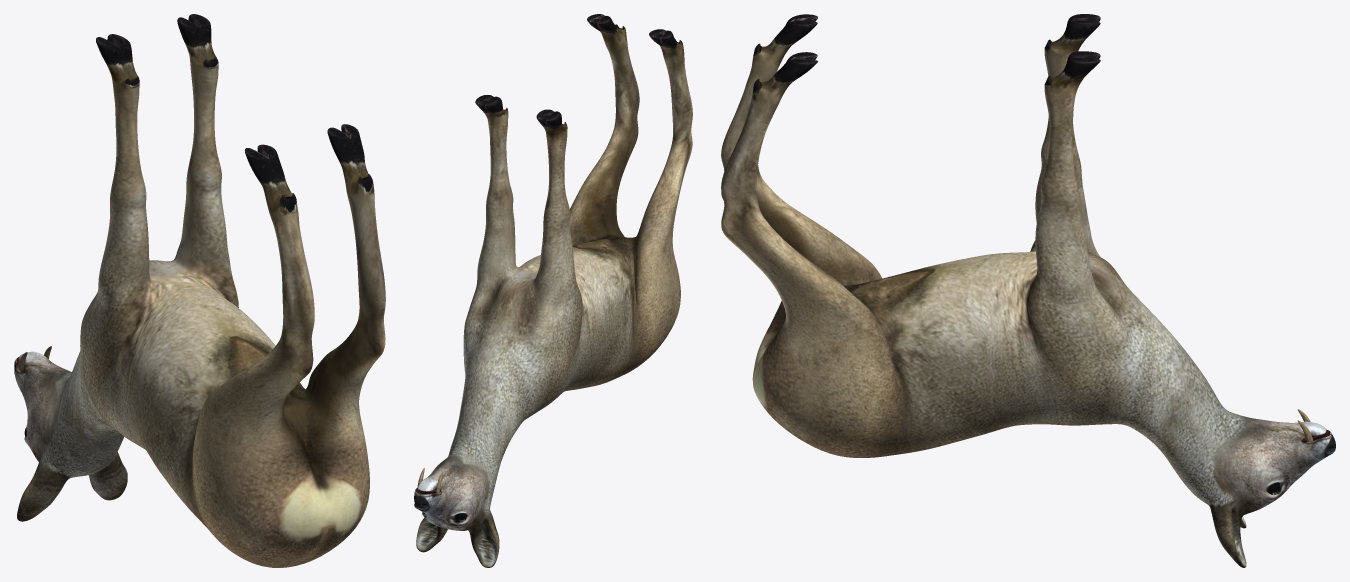
Rendered from deer.gltf.
3 views of the same model, side by side, from view 1: azimuth 30°, elevation 25°; view 2: azimuth 150°, elevation 25°; view 3: azimuth 270°, elevation 25° (orthographic). The views are drawn at different scales.
Visible parts, largest first — view 1: 13573_Musk_Deer_v1_L3; view 2: 13573_Musk_Deer_v1_L3; view 3: 13573_Musk_Deer_v1_L3.
Boxes of the visible parts, x1,y1,x2,y2 form: 13573_Musk_Deer_v1_L3: (14,14,385,567); 13573_Musk_Deer_v1_L3: (414,14,692,567); 13573_Musk_Deer_v1_L3: (721,14,1335,567).
Size of the model in its own units: 18.01 by 65.12 by 71.26.
1 material, 1 textured.
